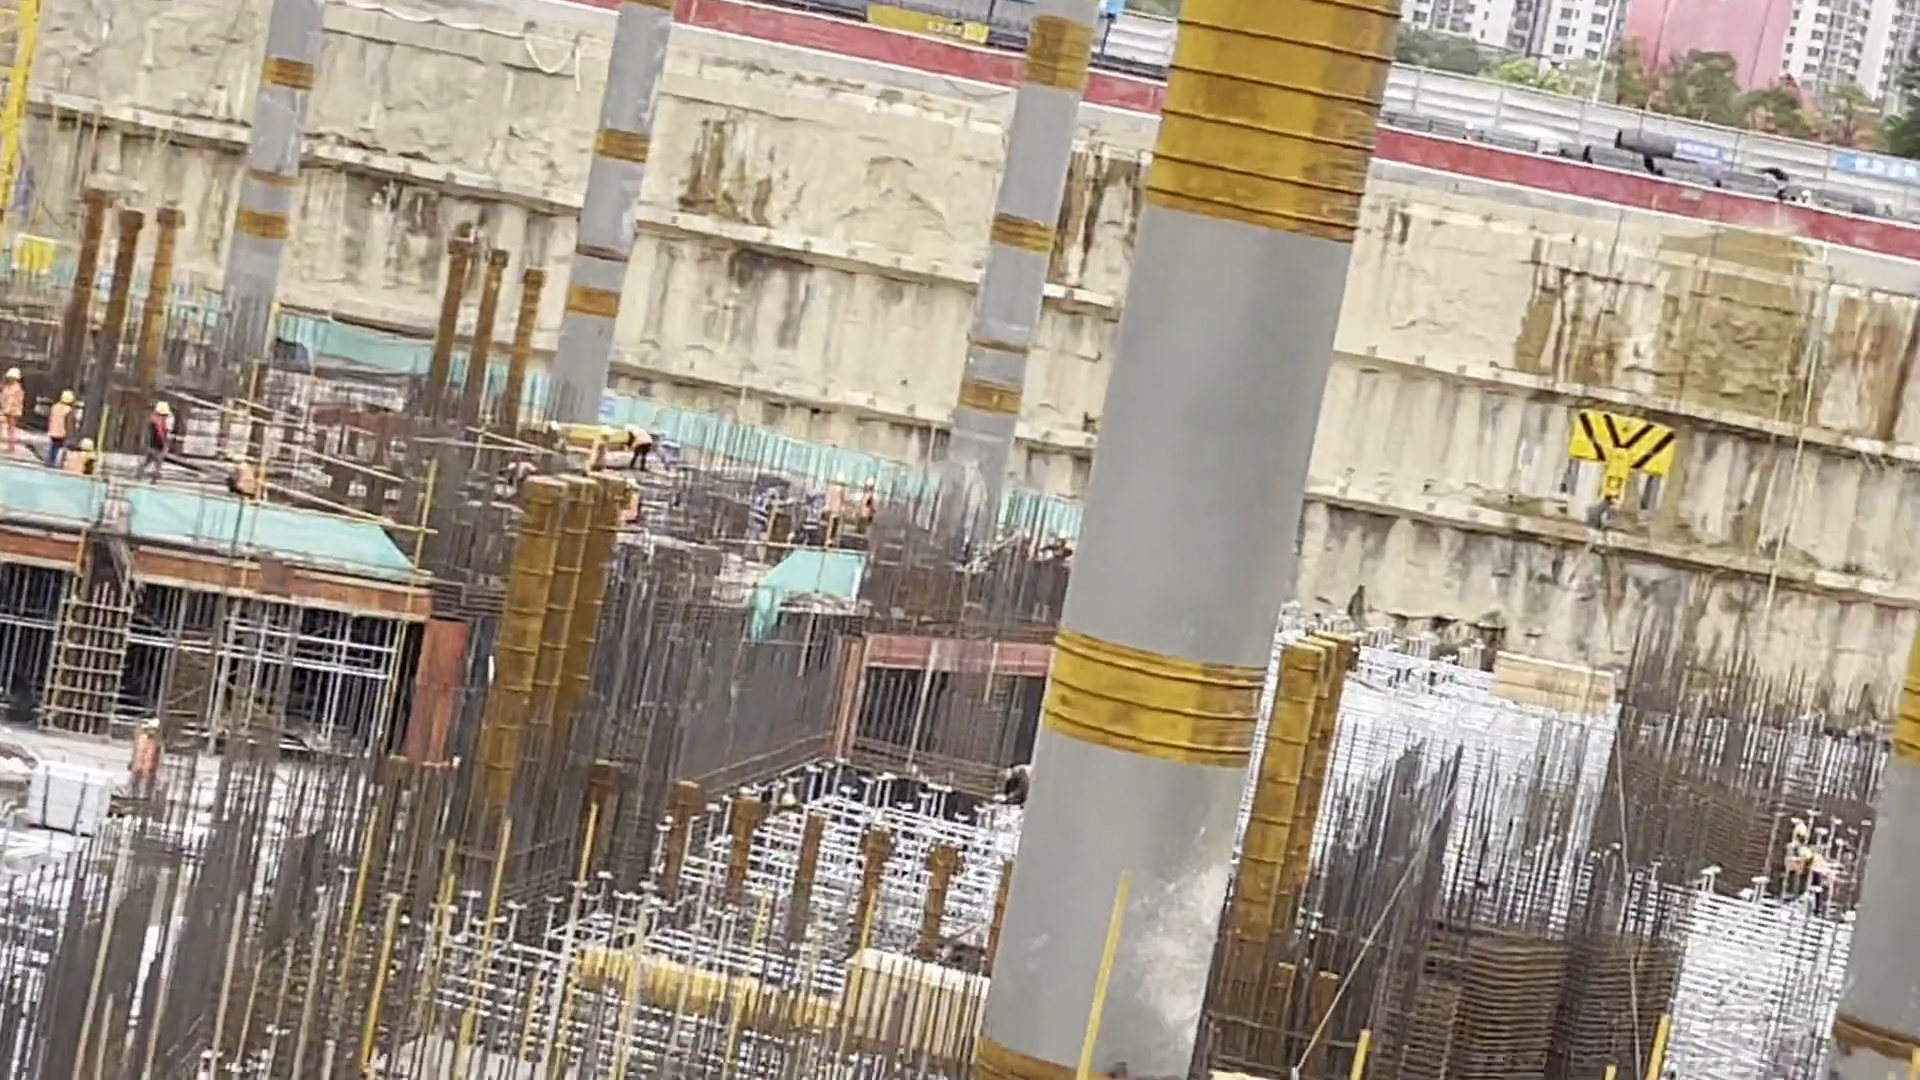fence: (1387, 120, 1891, 272), (702, 13, 1195, 153)
helmet: (137, 713, 164, 735), (154, 400, 170, 417), (61, 390, 76, 406), (6, 365, 21, 377)
hook: (1554, 398, 1710, 524)
person: (126, 713, 167, 800), (140, 394, 174, 482), (616, 413, 660, 478), (47, 384, 79, 470), (4, 366, 27, 460), (75, 436, 102, 480)
vest: (127, 732, 169, 783), (1, 384, 26, 420), (50, 402, 71, 443), (148, 415, 169, 448), (631, 428, 651, 450)
